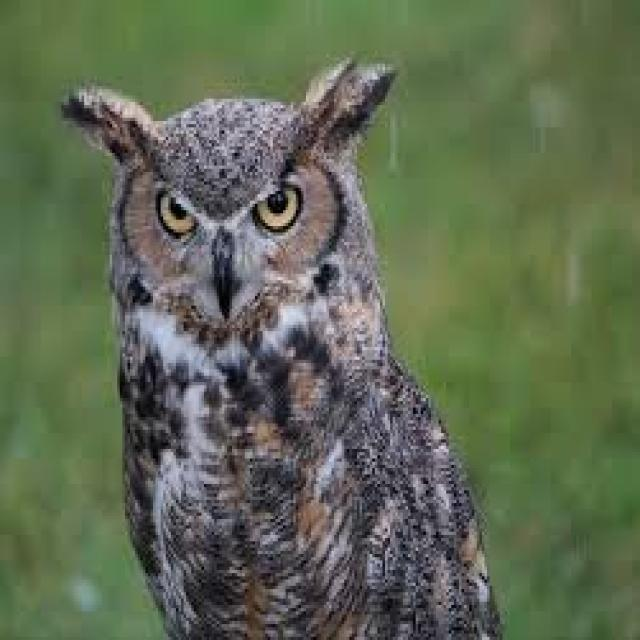Owl: (59, 54, 515, 638)
